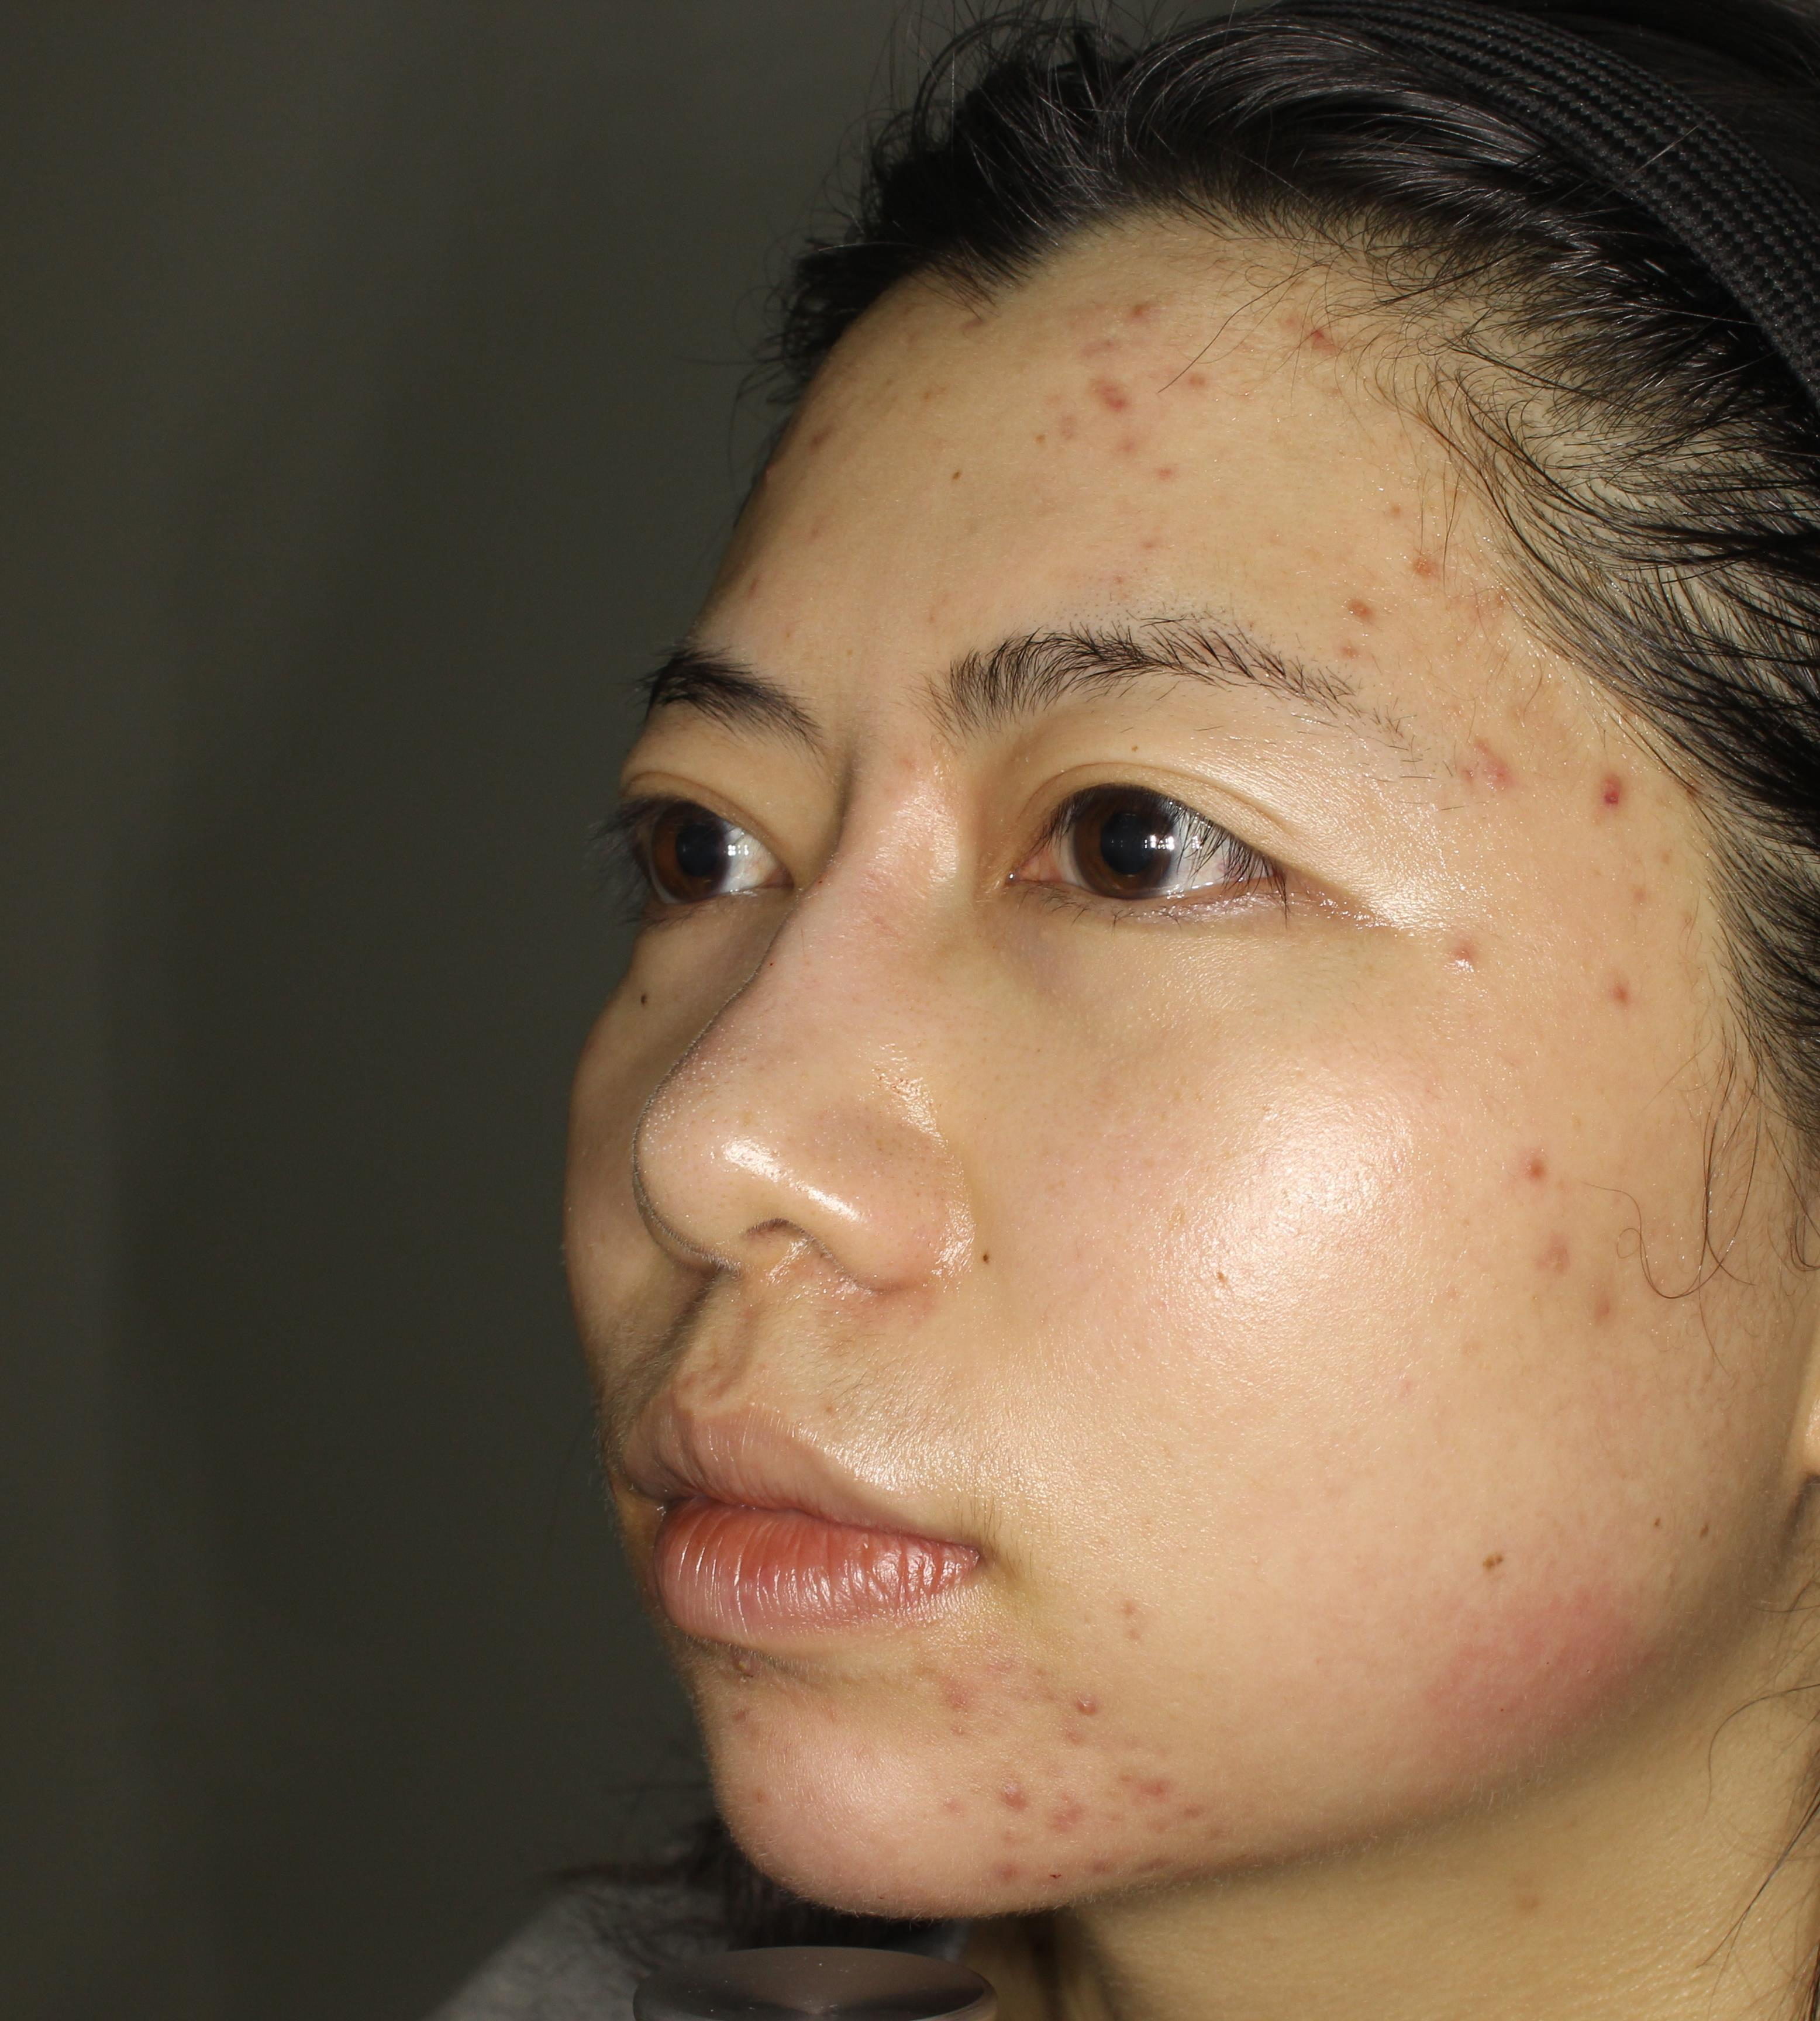fore: (1042, 339, 1179, 465), (1319, 558, 1409, 680), (1426, 729, 1516, 809), (1565, 1254, 1641, 1320), (1588, 716, 1637, 818), (1265, 290, 1319, 374), (1117, 1745, 1179, 1809), (979, 1765, 1036, 1817), (1051, 1773, 1086, 1835), (1539, 1236, 1579, 1285), (1530, 1226, 1562, 1248)
